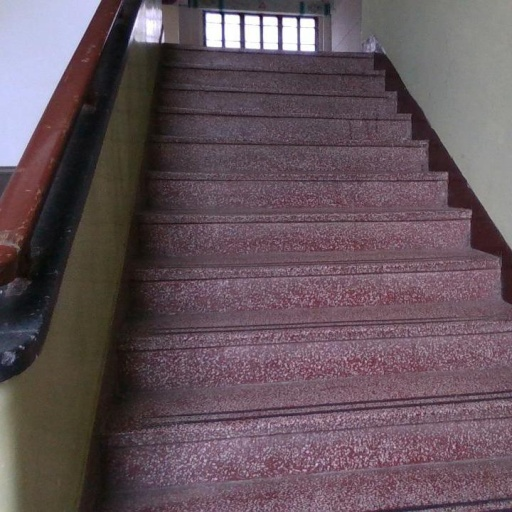Stairs: (100, 47, 512, 512)
